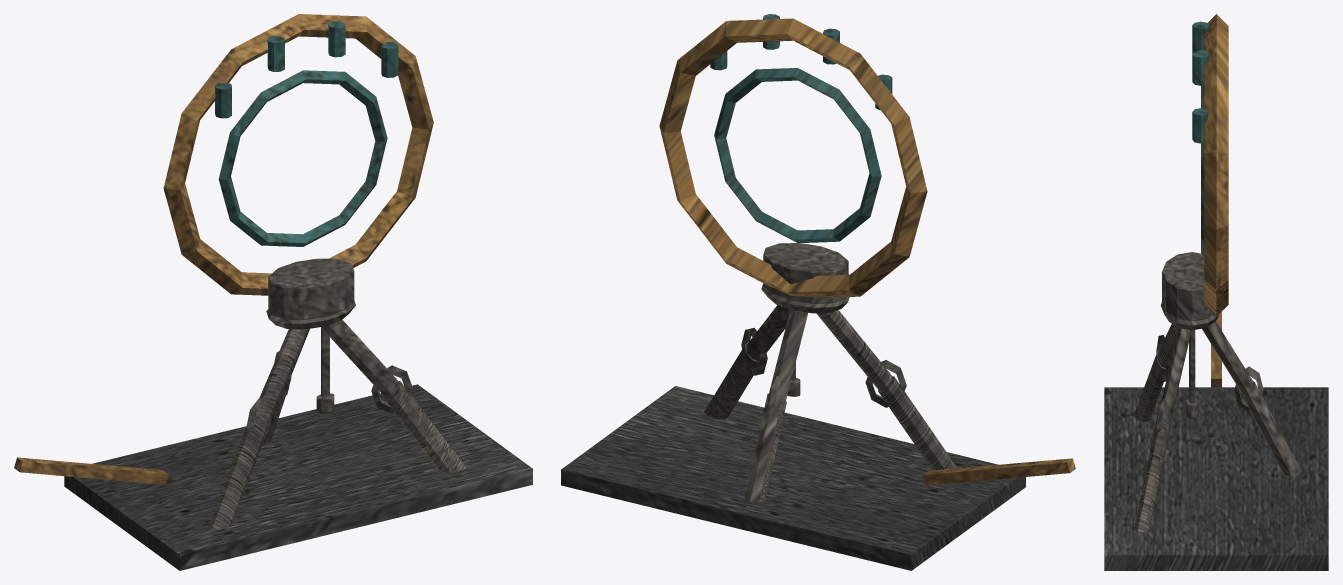
Rendered from west-scaffold-handhold-frame.glb.
3 views of the same model, side by side, from view 1: azimuth 30°, elevation 25°; view 2: azimuth 150°, elevation 25°; view 3: azimuth 270°, elevation 25° (orthographic). The views are drawn at different scales.
Visible parts, largest first — view 1: west-scaffold-handhold-frame; view 2: west-scaffold-handhold-frame; view 3: west-scaffold-handhold-frame.
Boxes of the visible parts, x1,y1,x2,y2 form: west-scaffold-handhold-frame: (14,14,532,570); west-scaffold-handhold-frame: (561,14,1075,570); west-scaffold-handhold-frame: (1104,14,1328,570).
Bounding box in the file's own units: 5.97 × 5.91 × 2.6.
1 material, 1 textured.
